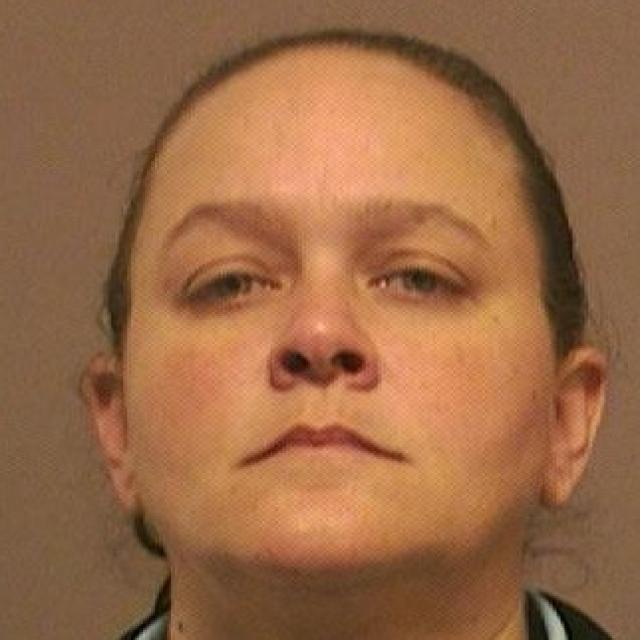Depress: (123, 46, 558, 583)
